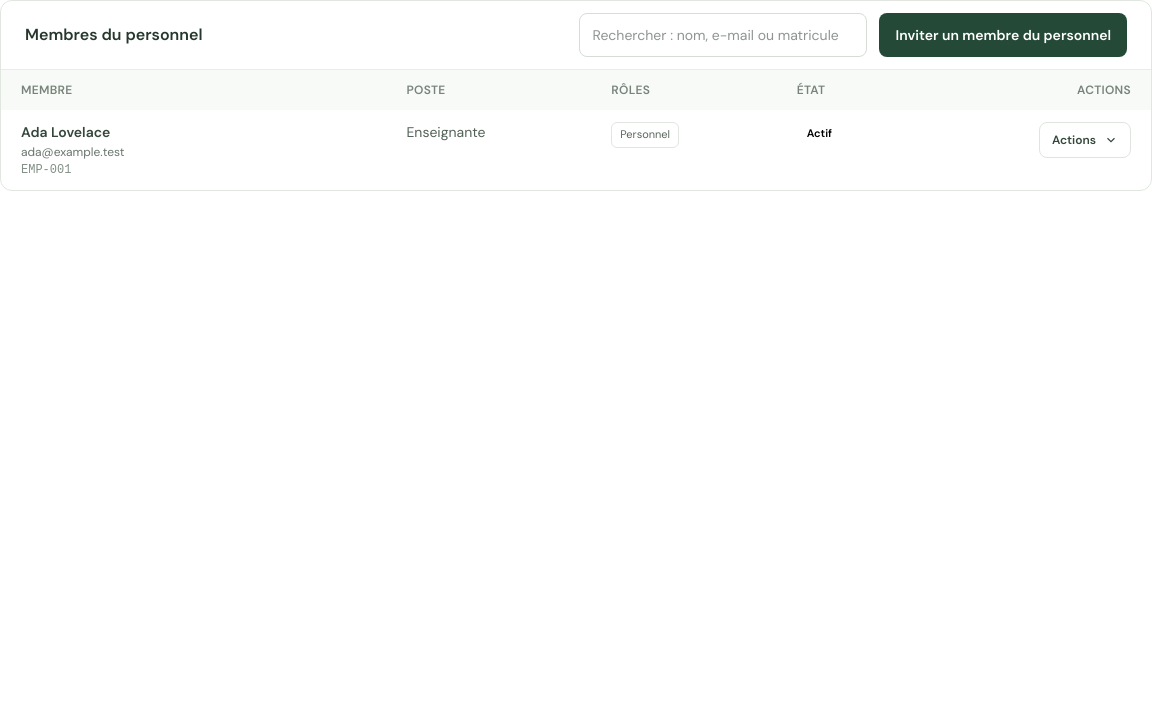
Test case: EmployeeListComponent › empêche de fermer pendant la modification puis ferme et recharge la liste après succès
The width and height of the screenshot is (1152, 720).
Click the button "Actions" at (1085, 140), box [1039,122,1131,158]
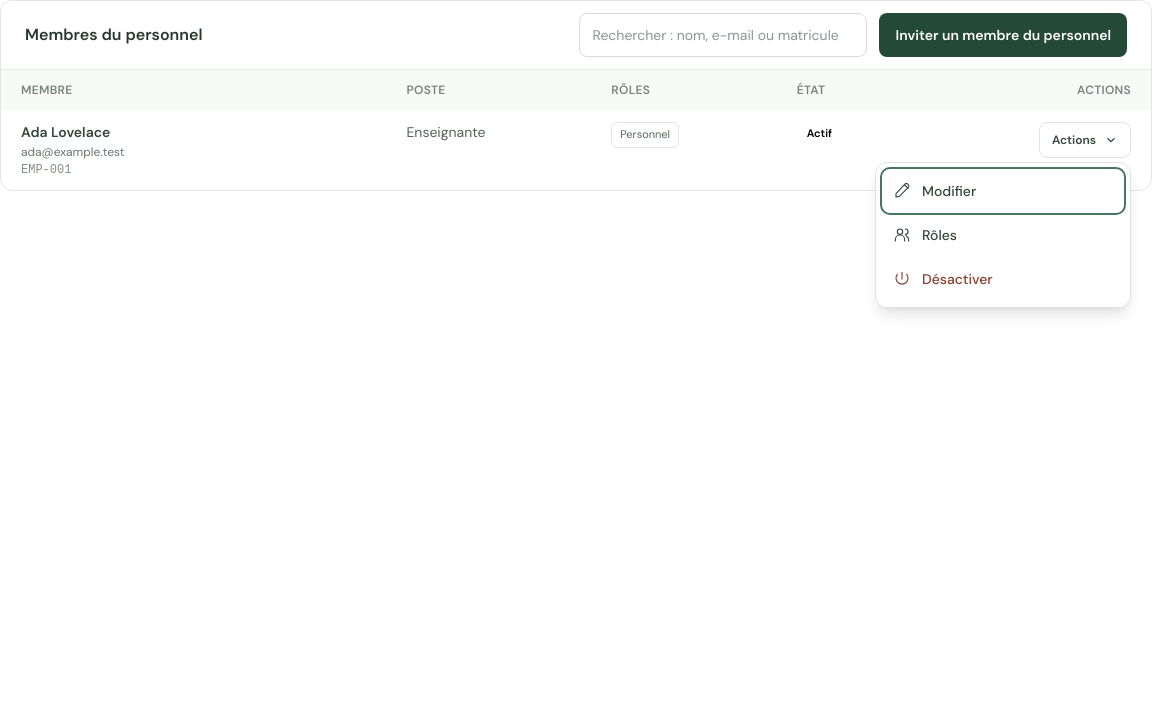
Click the menu item "Modifier" at (1003, 191), box [882,169,1124,213]
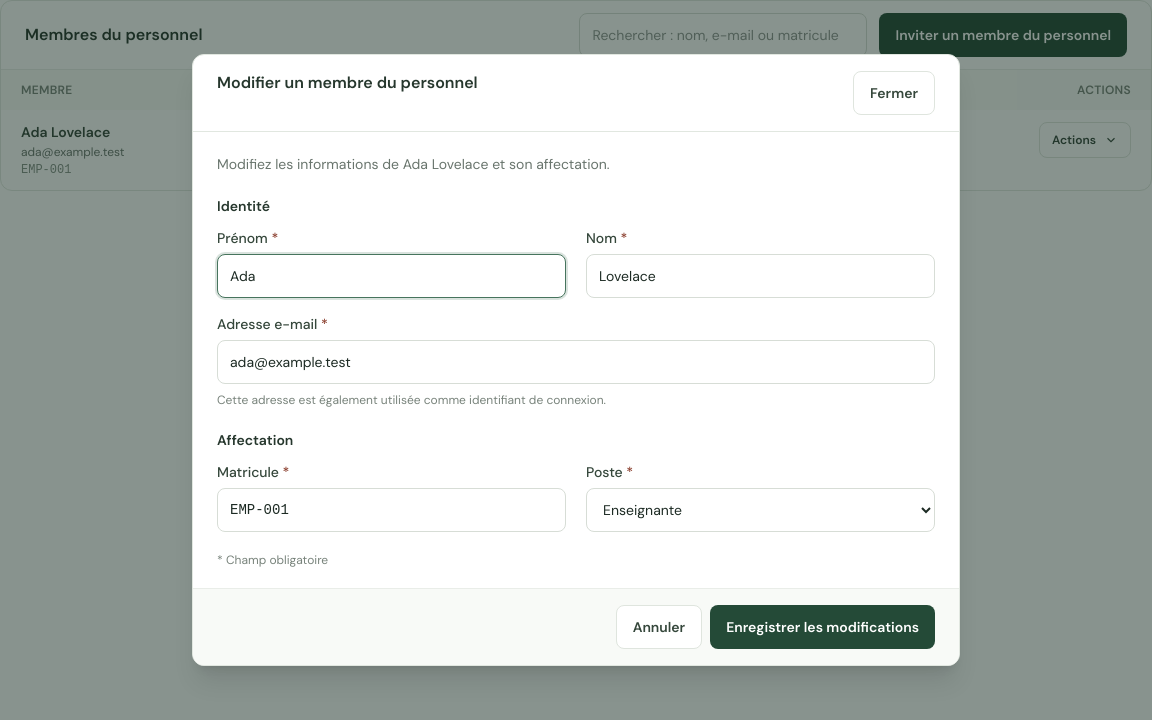
Replace the text in the field named "email" with "ada.updated@example.test" at (576, 362), box [217,340,935,384]
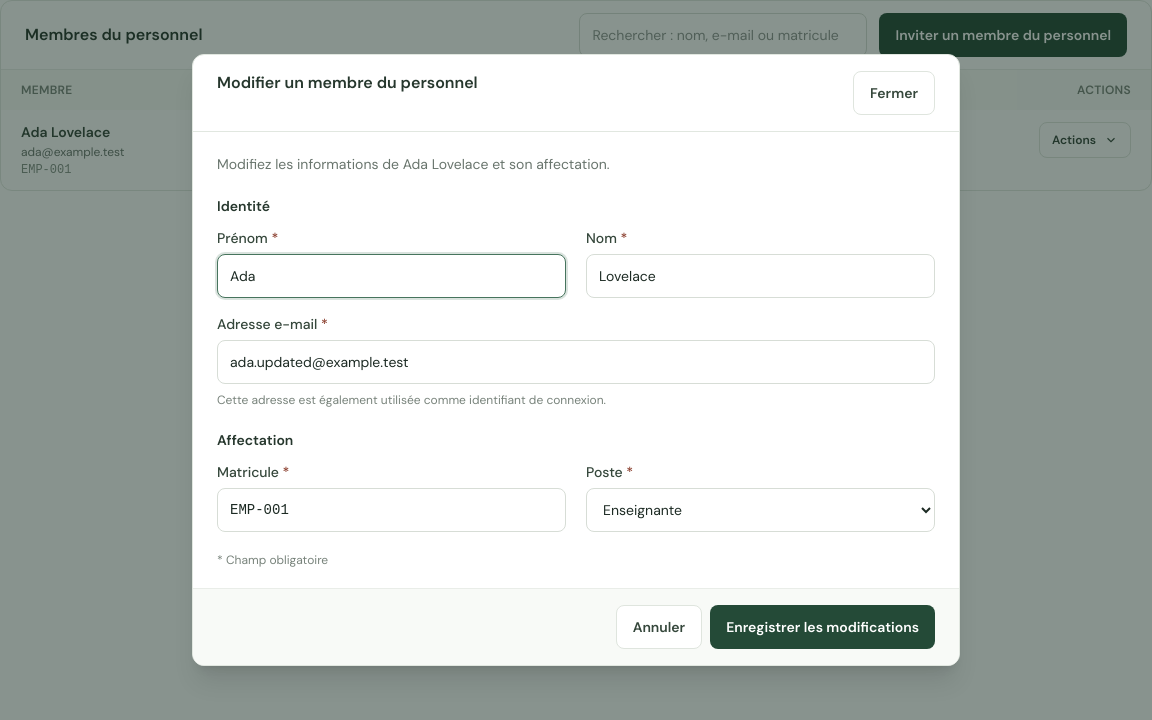
Submit the form, box [193,176,959,665]
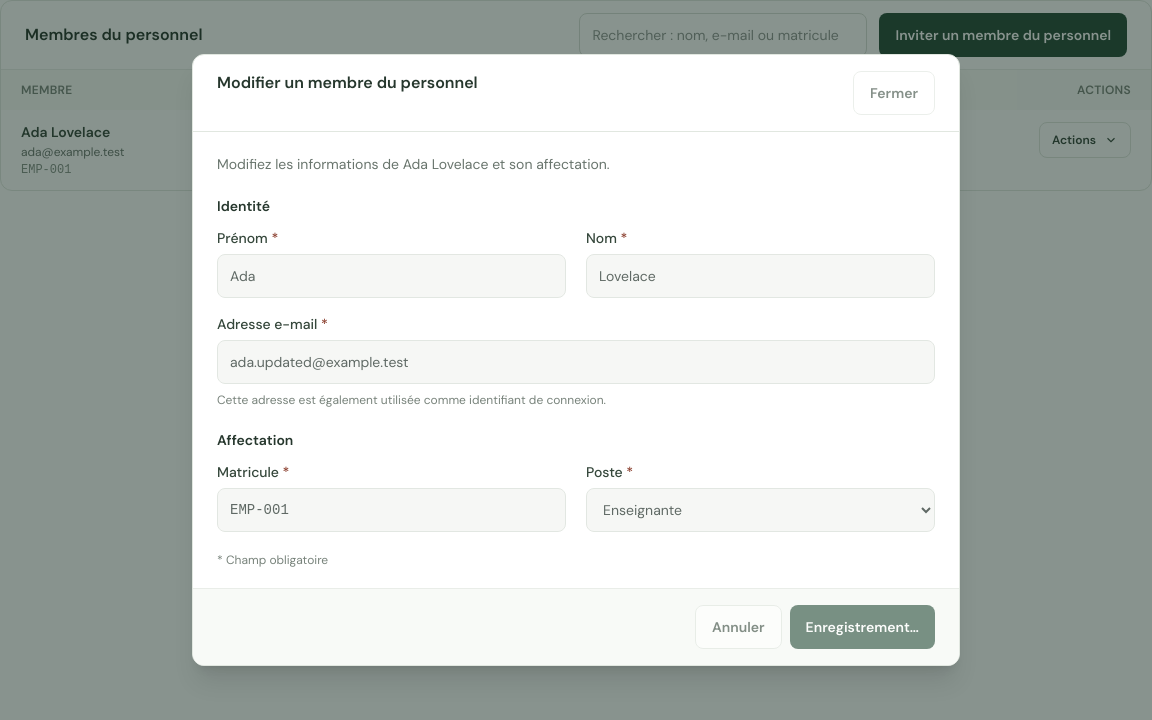
Result: the button with aria-label "Fermer la fenêtre" is disabled at [853,71,935,115]
Submit the form, box [193,176,959,665]
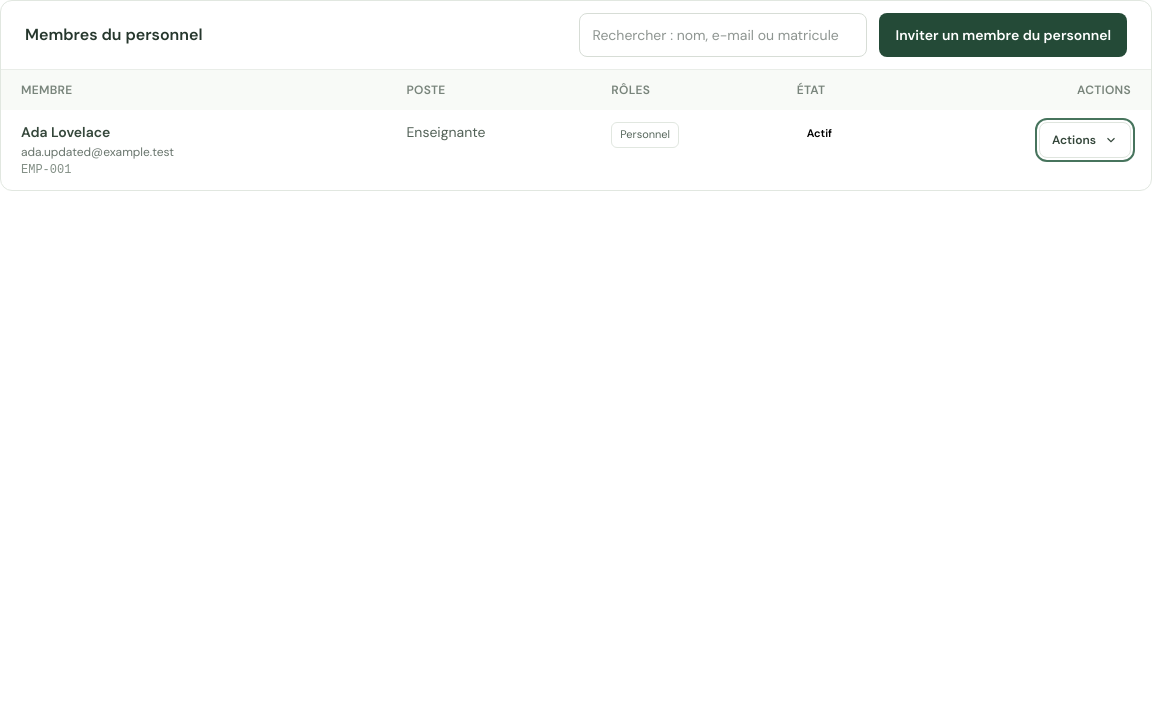
Result: the dialog is gone
Result: the text "ada.updated@example.test" is shown at [21,144,174,160]
